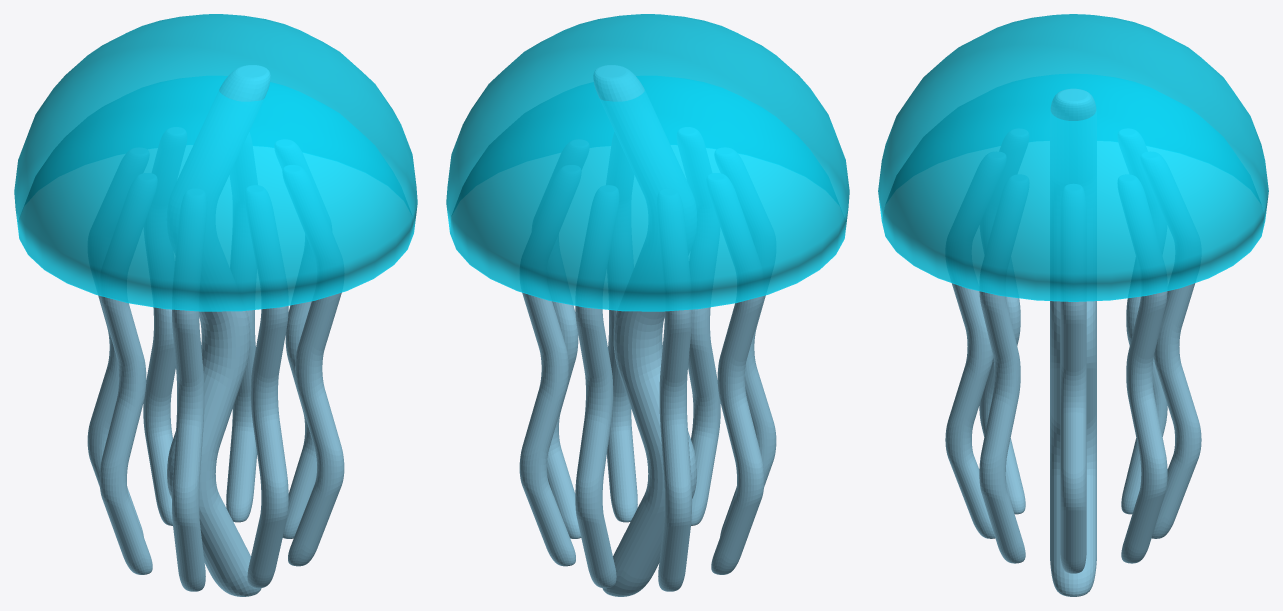
The model's file is Jellyfish.fbx.
The picture shows the model from 3 angles, left to right: view 1: azimuth 30°, elevation 25°; view 2: azimuth 150°, elevation 25°; view 3: azimuth 270°, elevation 25°; orthographic projection. The views are drawn at different scales.
Visible parts, largest first — view 1: Sphere, Cylinder.007, Cylinder.004, Cylinder.003, Cylinder, Cylinder.001, Cylinder.002; view 2: Sphere, Cylinder.007, Cylinder.004, Cylinder.001, Cylinder, Cylinder.003, Cylinder.002; view 3: Sphere, Cylinder.007, Cylinder.004, Cylinder.002, Cylinder.001, Cylinder.003.
Boxes of the visible parts, x1,y1,x2,y2 form: Sphere: (14, 14, 417, 311); Cylinder.007: (87, 292, 344, 591); Cylinder.004: (167, 65, 270, 596); Cylinder.003: (247, 305, 288, 588); Cylinder: (99, 296, 152, 574); Cylinder.001: (143, 307, 175, 525); Cylinder.002: (282, 301, 316, 538); Sphere: (446, 14, 849, 311); Cylinder.007: (519, 292, 776, 591); Cylinder.004: (593, 65, 696, 596); Cylinder.001: (575, 305, 616, 588); Cylinder: (711, 296, 764, 574); Cylinder.003: (688, 307, 720, 525); Cylinder.002: (547, 301, 581, 538); Sphere: (878, 14, 1268, 301); Cylinder.007: (979, 291, 1167, 563); Cylinder.004: (1050, 89, 1096, 596); Cylinder.002: (1060, 301, 1086, 573); Cylinder.001: (1151, 283, 1201, 538); Cylinder.003: (945, 283, 995, 538).
Bounding box in the file's own units: 1701 × 2612 × 1701.
